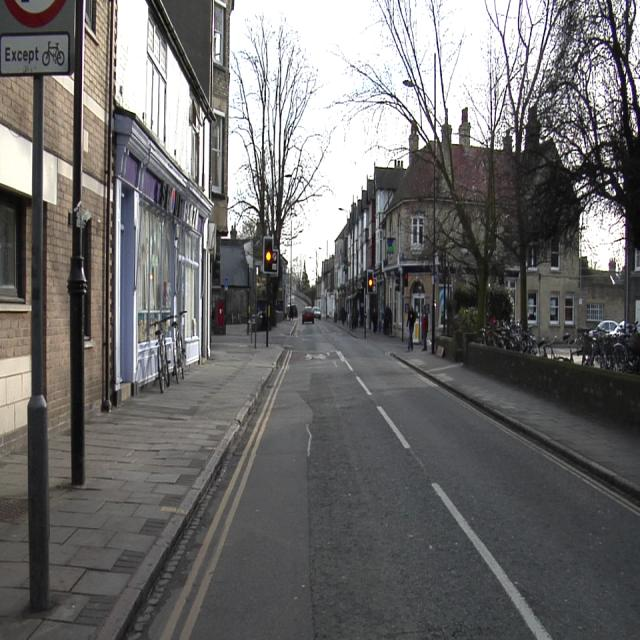Building: (41, 0, 231, 428), (318, 133, 469, 335), (0, 78, 30, 448), (528, 242, 626, 345)
Car: (301, 307, 314, 323)
Road: (140, 320, 640, 638)
Tree: (355, 0, 640, 326), (232, 15, 329, 246)
person: (408, 307, 416, 351)
